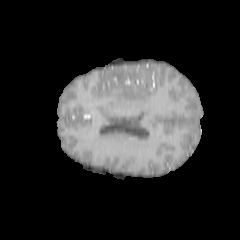glioma: (114, 64, 151, 102)
